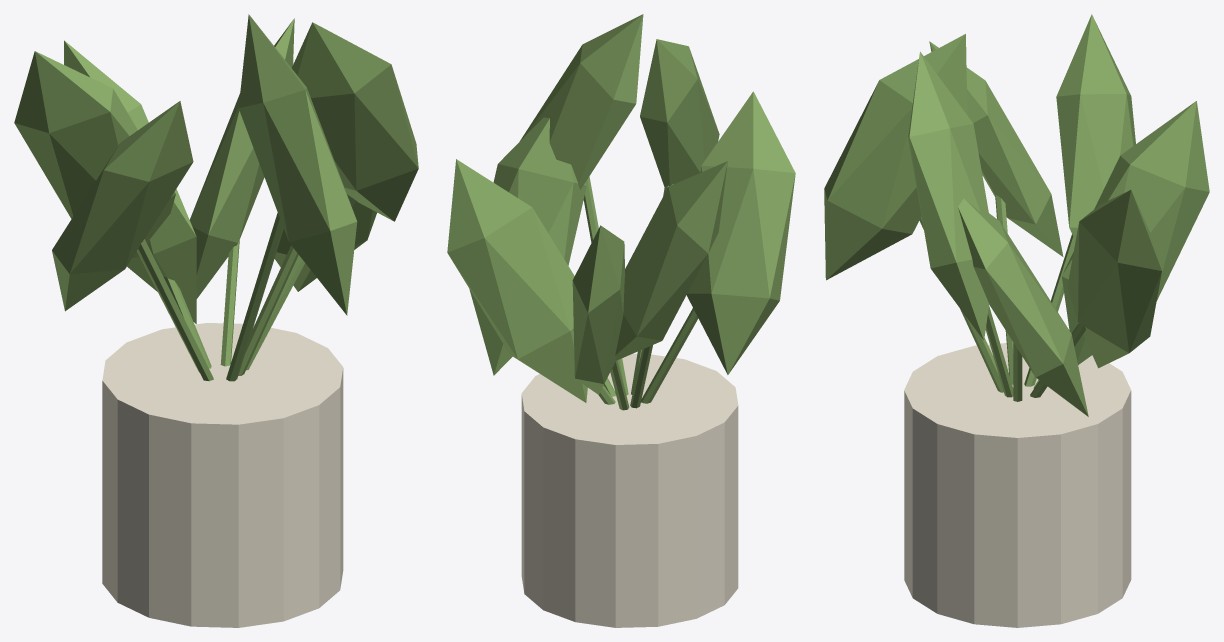
File: lobby_T2_floor_planter.glb
The picture shows the model from 3 angles, left to right: view 1: azimuth 30°, elevation 25°; view 2: azimuth 150°, elevation 25°; view 3: azimuth 270°, elevation 25°; orthographic projection. The views are drawn at different scales.
Visible parts, largest first — view 1: lobby_T2_floor_planter__Static_Assembly; view 2: lobby_T2_floor_planter__Static_Assembly; view 3: lobby_T2_floor_planter__Static_Assembly.
Boxes of the visible parts, left/top/right/bottom form: lobby_T2_floor_planter__Static_Assembly: left=14, top=14, right=418, bottom=627; lobby_T2_floor_planter__Static_Assembly: left=447, top=14, right=795, bottom=627; lobby_T2_floor_planter__Static_Assembly: left=824, top=14, right=1209, bottom=627.
Bounding box in the file's own units: 0.5456 × 0.9309 × 0.5961.
